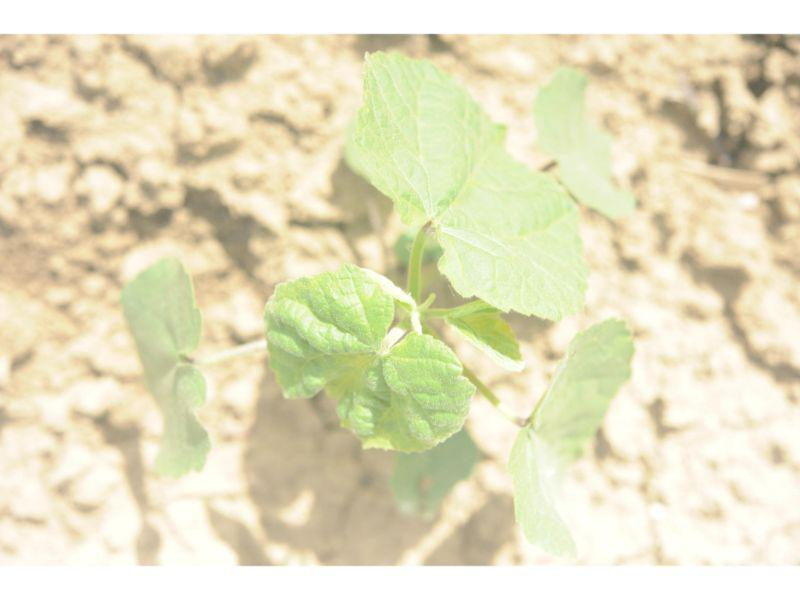velvet: (118, 46, 634, 551)
